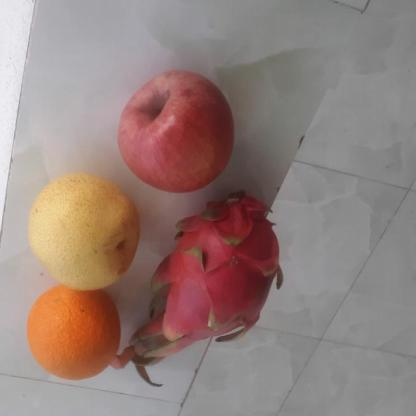apple: (112, 74, 236, 194)
orange: (21, 284, 121, 384)
pear: (25, 175, 139, 289)
pitaya: (143, 193, 282, 347)
